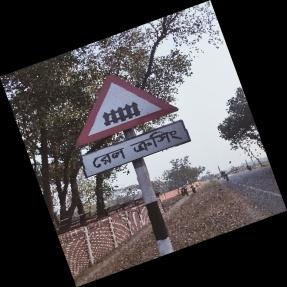Rail-crossing: (75, 74, 189, 182)
